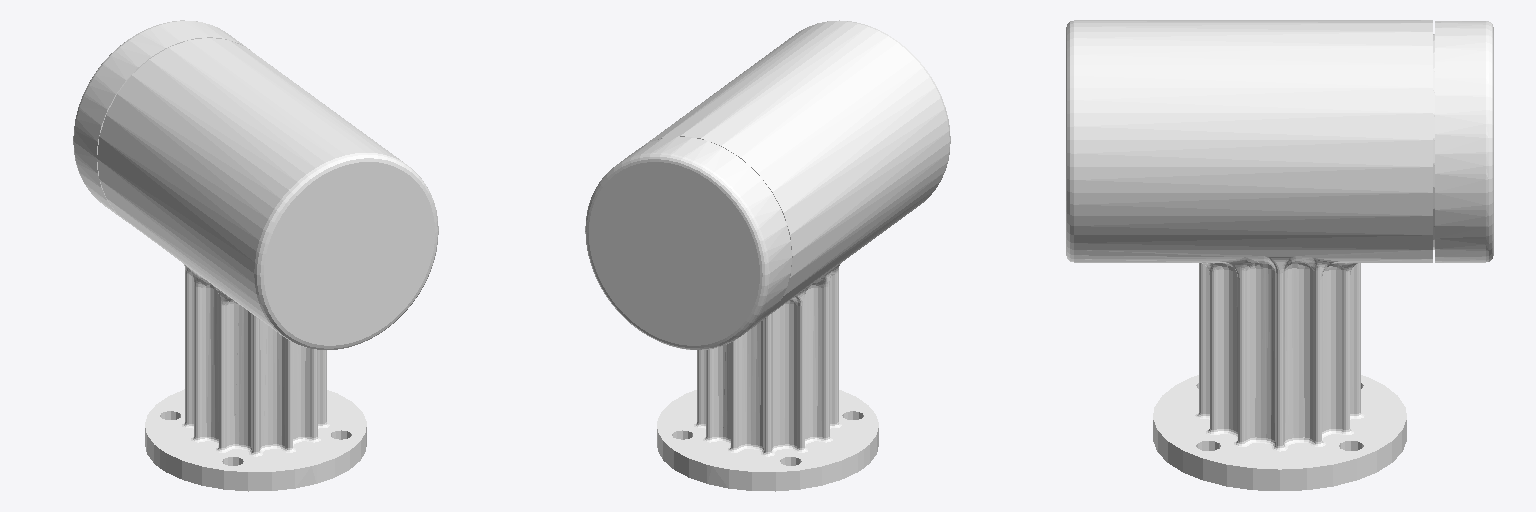
robot.urdf — permanent_magnet:
<?xml version="1.0" encoding="utf-8"?>
<!-- This URDF was automatically created by SolidWorks to URDF Exporter! Originally created by Stephen Brawner (brawner@gmail.com) 
     Commit Version: 1.6.0-4-g7f85cfe  Build Version: 1.6.7995.38578
     For more information, please see http://wiki.ros.org/sw_urdf_exporter -->
<robot
  name="permanent_magnet">
  <link
    name="pm_base_link">
    <inertial>
      <origin
        xyz="-1.4589E-05 0.00097471 0.054744"
        rpy="0 0 0" />
      <mass
        value="0.136" />
      <inertia
        ixx="0.00022399"
        ixy="1.6941E-08"
        ixz="-9.6464E-09"
        iyy="0.00018815"
        iyz="1.4376E-05"
        izz="0.00010598" />
    </inertial>
    <visual>
      <origin
        xyz="0 0 0"
        rpy="0 0 0" />
      <geometry>
        <mesh
          filename="package://permanent_magnet/meshes/pm_base_link.STL" />
      </geometry>
      <material
        name="">
        <color
          rgba="1 1 1 1" />
      </material>
    </visual>
    <collision>
      <origin
        xyz="0 0 0"
        rpy="0 0 0" />
      <geometry>
        <mesh
          filename="package://permanent_magnet/meshes/pm_base_link.STL" />
      </geometry>
    </collision>
  </link>
  <link
    name="pm_tcp_link">
    <inertial>
      <origin
        xyz="-1.4589E-05 0.00097471 -0.026256"
        rpy="0 0 0" />
      <mass
        value="0.136" />
      <inertia
        ixx="0.00022399"
        ixy="1.6941E-08"
        ixz="-9.6464E-09"
        iyy="0.00018815"
        iyz="1.4376E-05"
        izz="0.00010598" />
    </inertial>
    <visual>
      <origin
        xyz="0 0 0"
        rpy="0 0 0" />
      <geometry>
        <mesh
          filename="package://permanent_magnet/meshes/pm_tcp_link.STL" />
      </geometry>
      <material
        name="">
        <color
          rgba="1 1 1 1" />
      </material>
    </visual>
    <collision>
      <origin
        xyz="0 0 0"
        rpy="0 0 0" />
      <geometry>
        <mesh
          filename="package://permanent_magnet/meshes/pm_tcp_link.STL" />
      </geometry>
    </collision>
  </link>
  <joint
    name="permanent_magnet"
    type="fixed">
    <origin
      xyz="0 0 0.081"
      rpy="0 0 0" />
    <parent
      link="pm_base_link" />
    <child
      link="pm_tcp_link" />
    <axis
      xyz="0 0 0" />
  </joint>
</robot>

--- Facts derived from the render (not from the file) ---
3 views of the same robot in one strip: view 1: azimuth 30°, elevation 25°; view 2: azimuth 150°, elevation 25°; view 3: azimuth 270°, elevation 25° (orthographic).
Robot: permanent_magnet — 2 links, 1 joints (1 fixed); root link pm_base_link; default pose: every joint at zero.
Links seen in each view (by area): view 1: pm_base_link; view 2: pm_base_link; view 3: pm_base_link.
Boxes of the visible links, bbox=[...] form: pm_base_link: bbox=[73, 20, 438, 491]; pm_base_link: bbox=[585, 20, 950, 491]; pm_base_link: bbox=[1066, 20, 1493, 490].
Bounding box of the posed robot: 0.063 × 0.106 × 0.111 m (x, y, z).
2 mesh visuals loaded from 2 distinct referenced files (2 binary STL).
